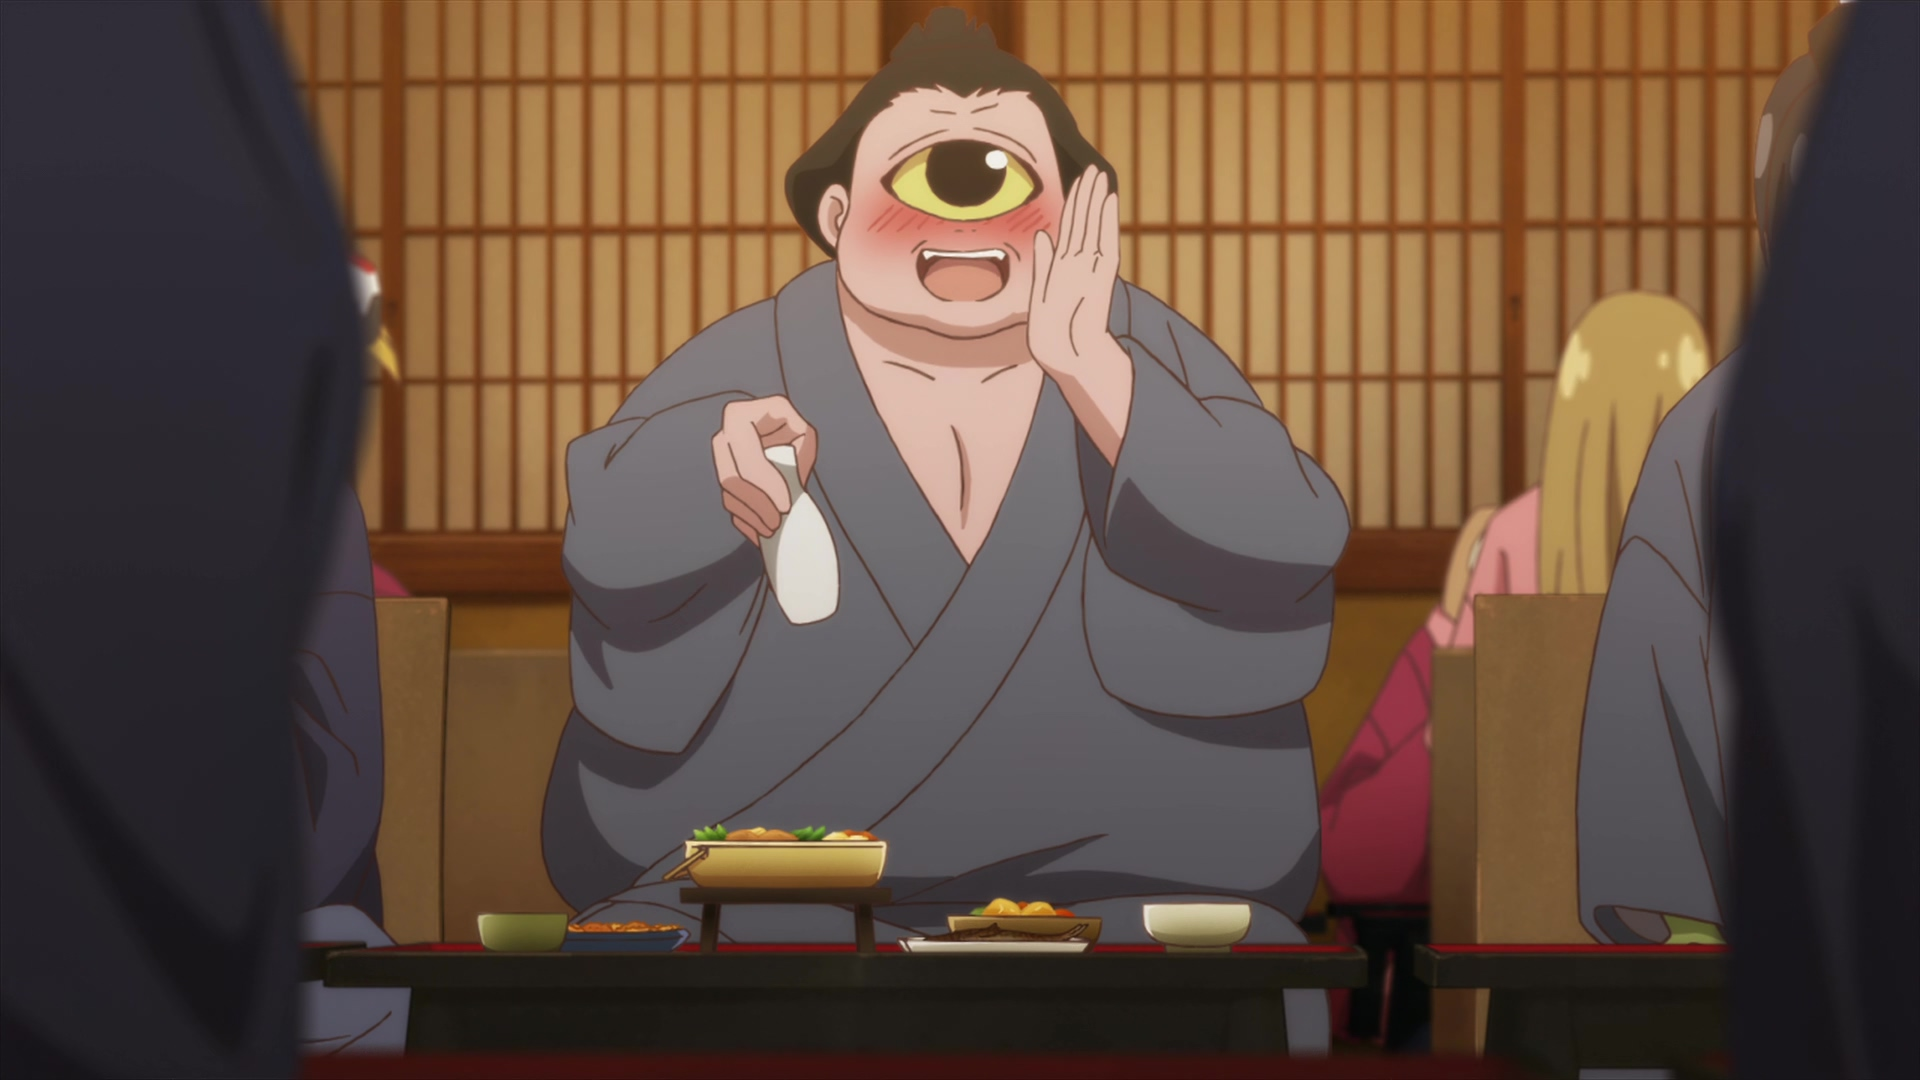其他: (543, 1, 1354, 942), (1462, 289, 1712, 654)
